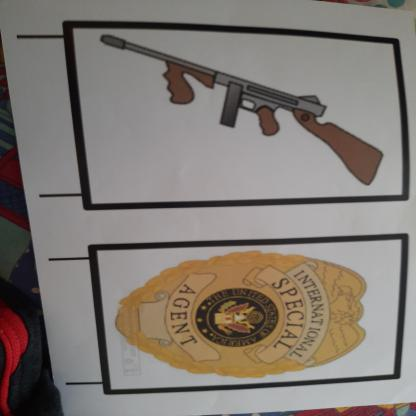Bootlegger: (78, 24, 406, 201)
G-man: (81, 246, 393, 386)
